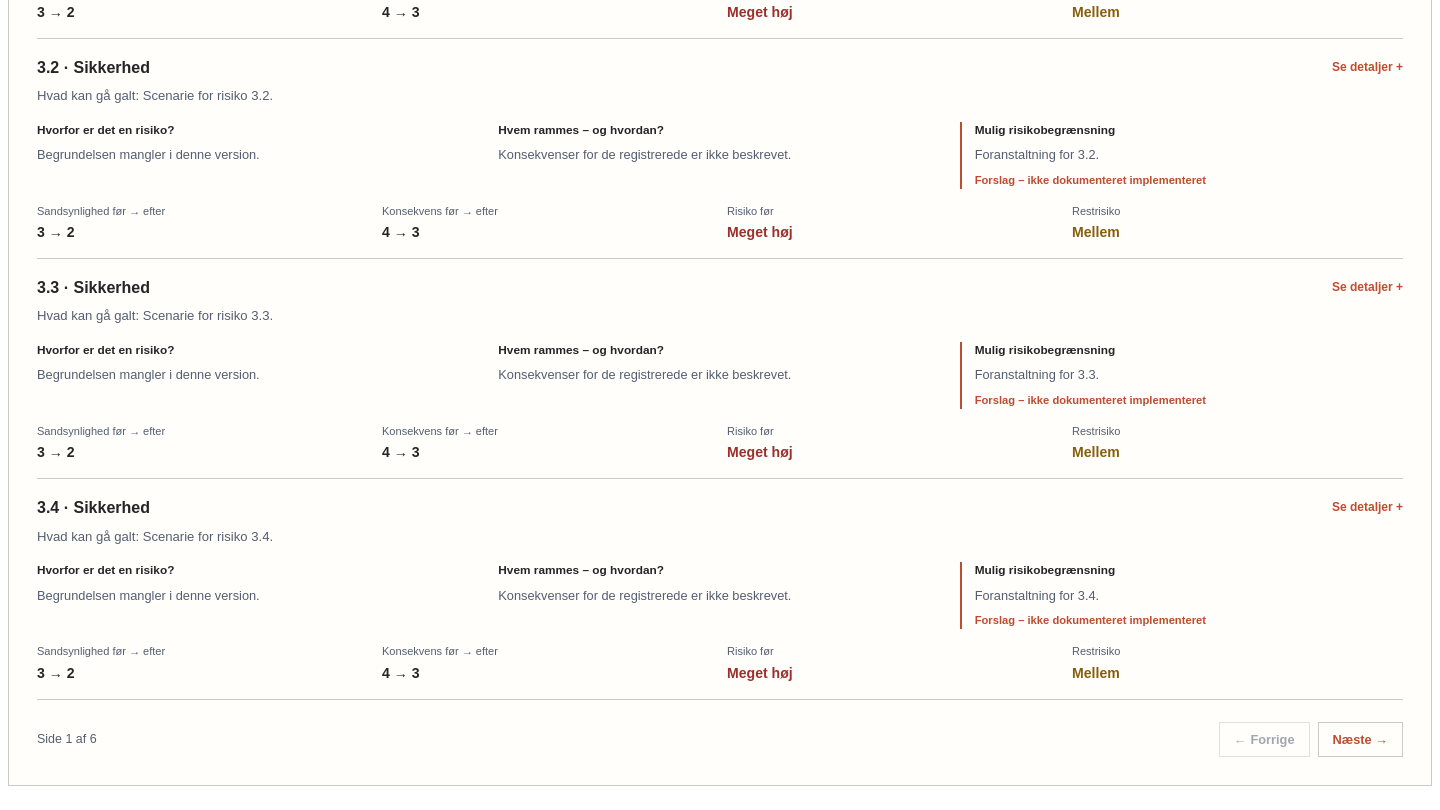
Scenario: 33 risici bliver til seks kompakte rækker ad gangen med alle risici tilgængelige
(page scrolled)
Expected: the button with aria-label "Forrige side med risici" is disabled, x1=1219 y1=722 x2=1310 y2=757
Click the button with aria-label "Næste side med risici" at (1360, 739), box x1=1318 y1=722 x2=1403 y2=757
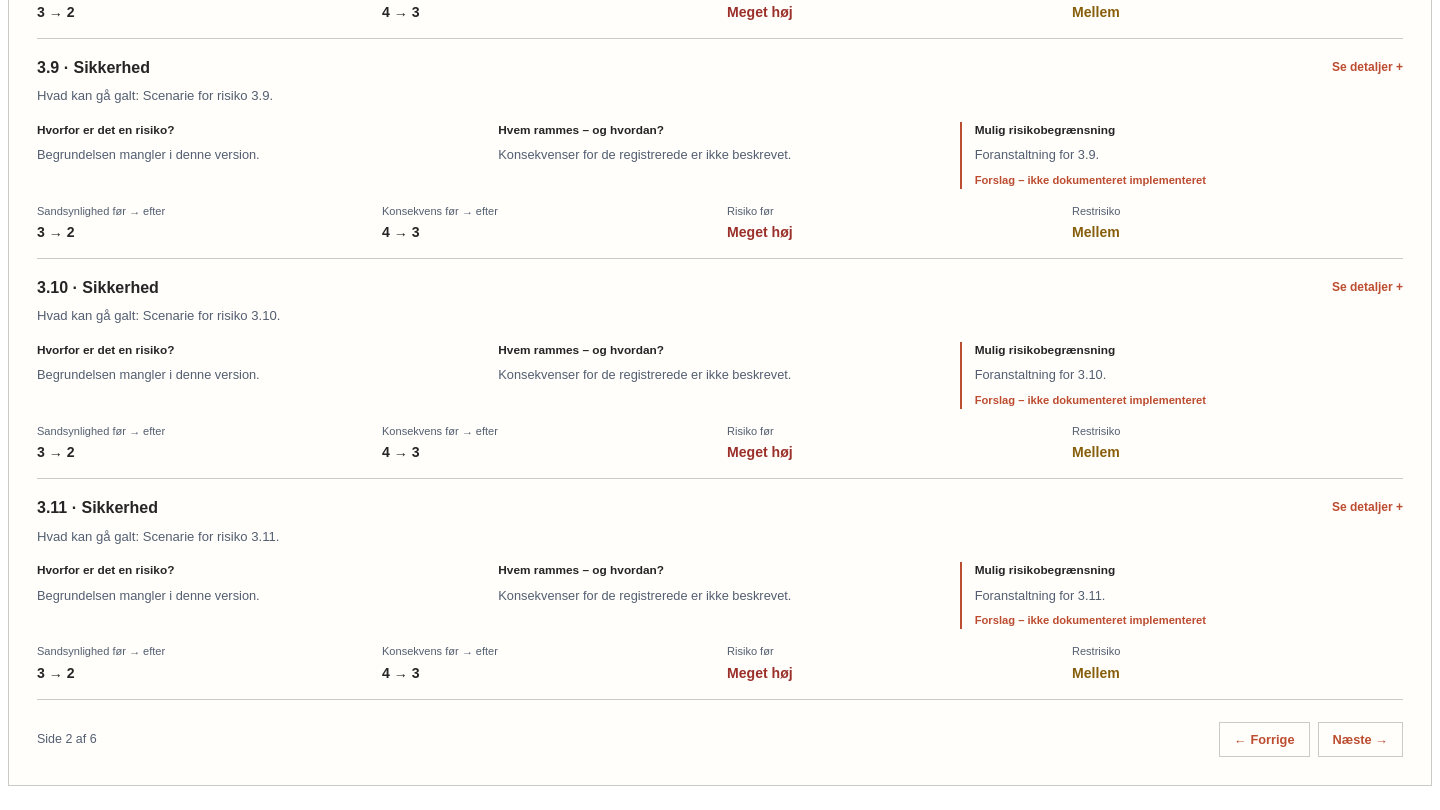
Click the button with aria-label "Næste side med risici" at (1360, 739), box x1=1318 y1=722 x2=1403 y2=757
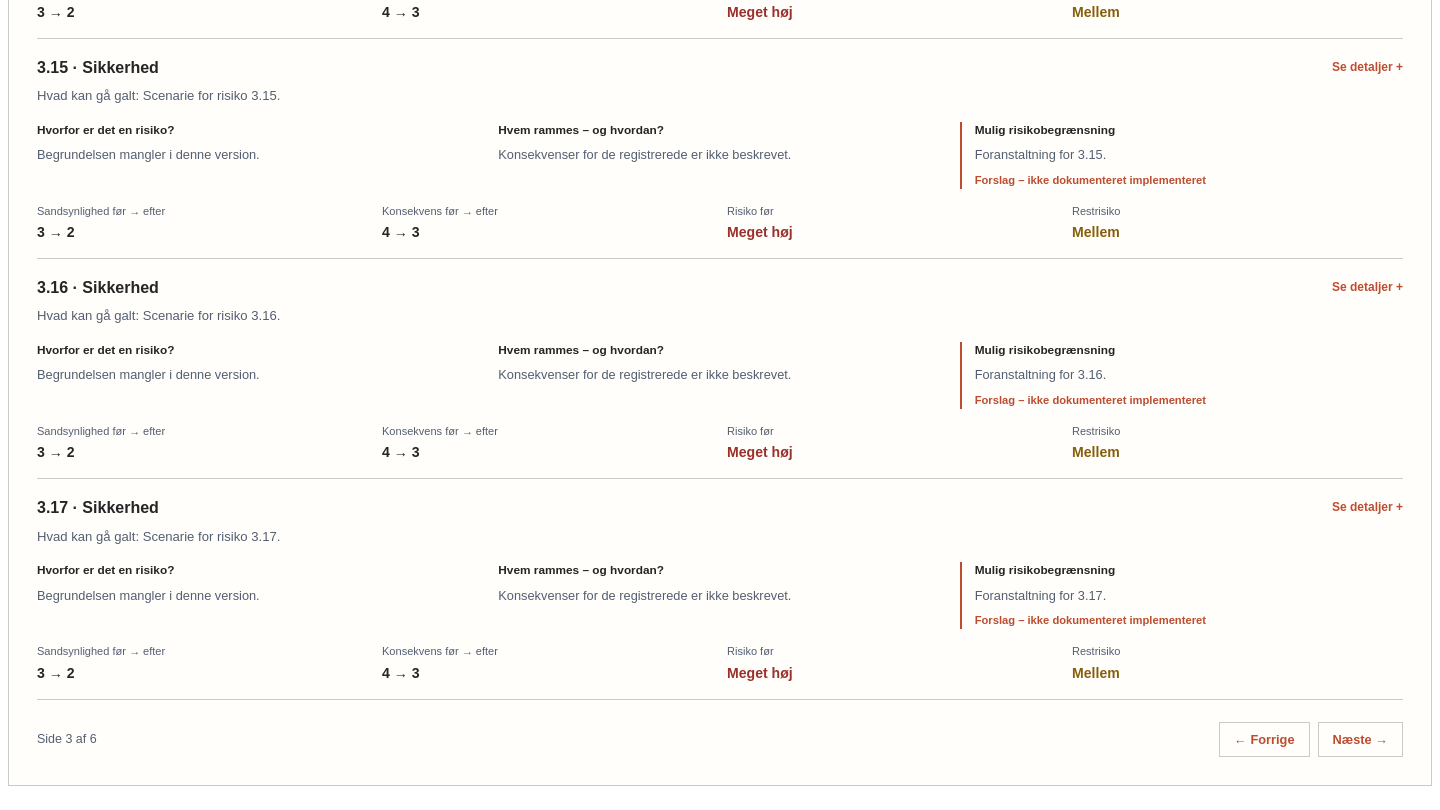
Click the button with aria-label "Næste side med risici" at (1360, 739), box x1=1318 y1=722 x2=1403 y2=757
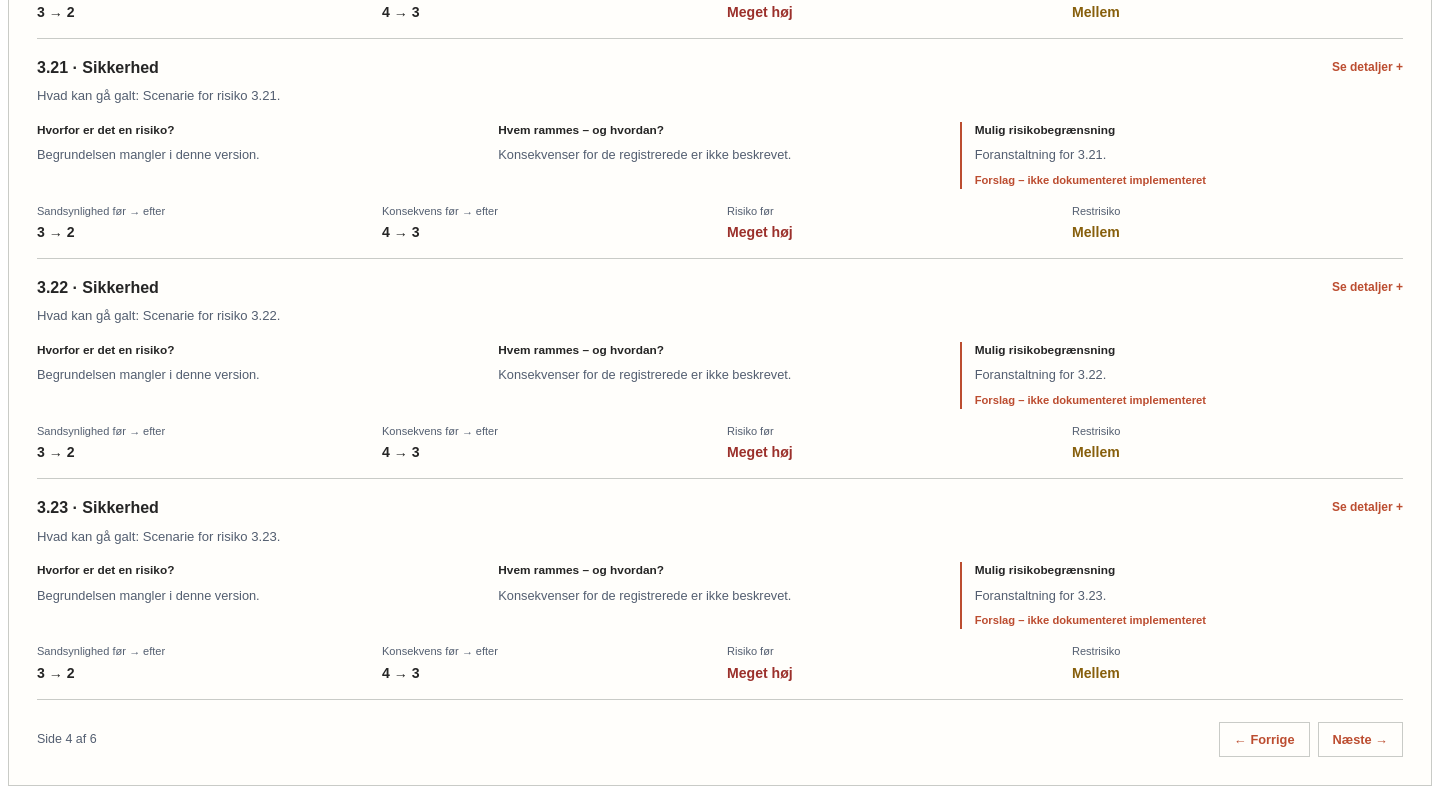
Click the button with aria-label "Næste side med risici" at (1360, 739), box x1=1318 y1=722 x2=1403 y2=757
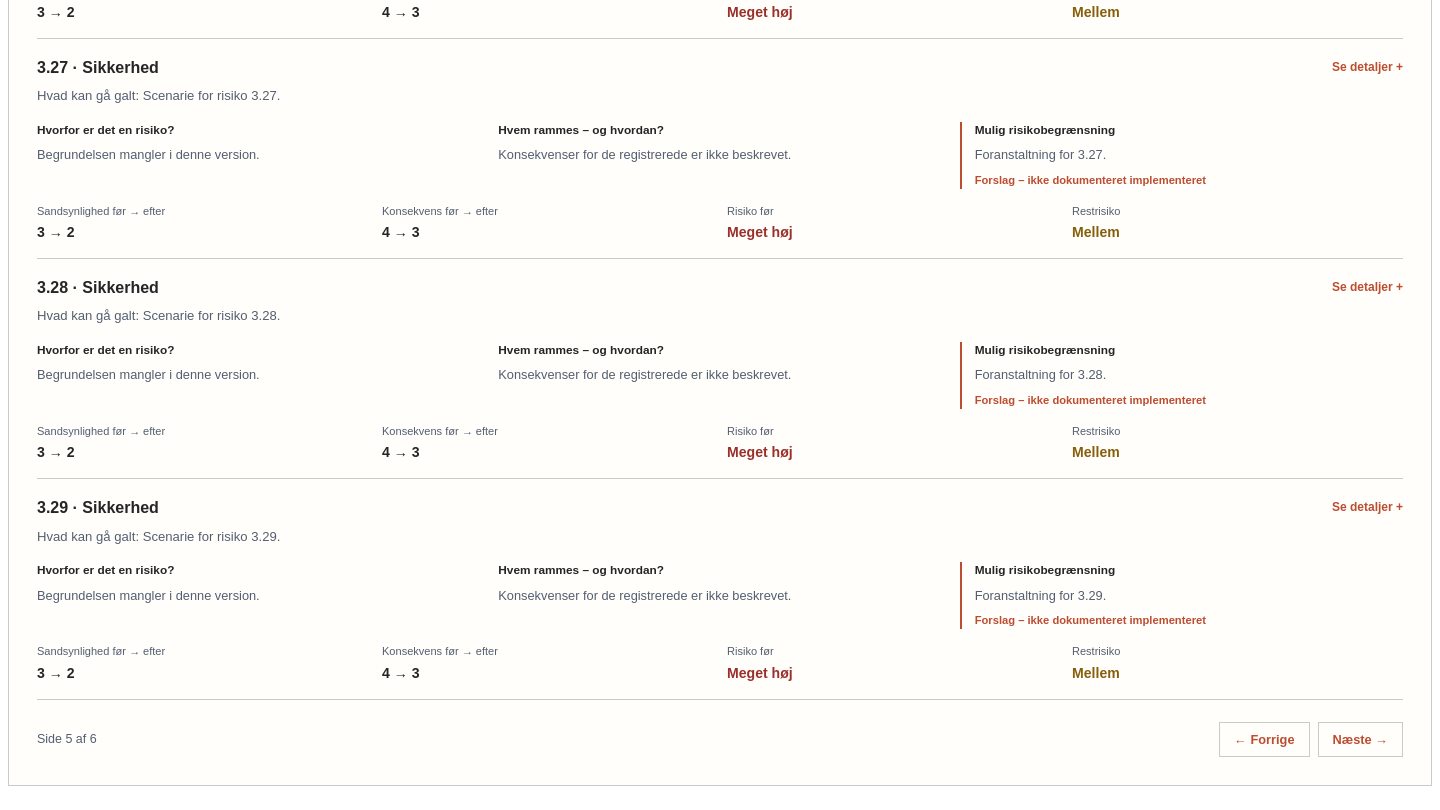
Click the button with aria-label "Næste side med risici" at (1360, 739), box x1=1318 y1=722 x2=1403 y2=757
(page scrolled)
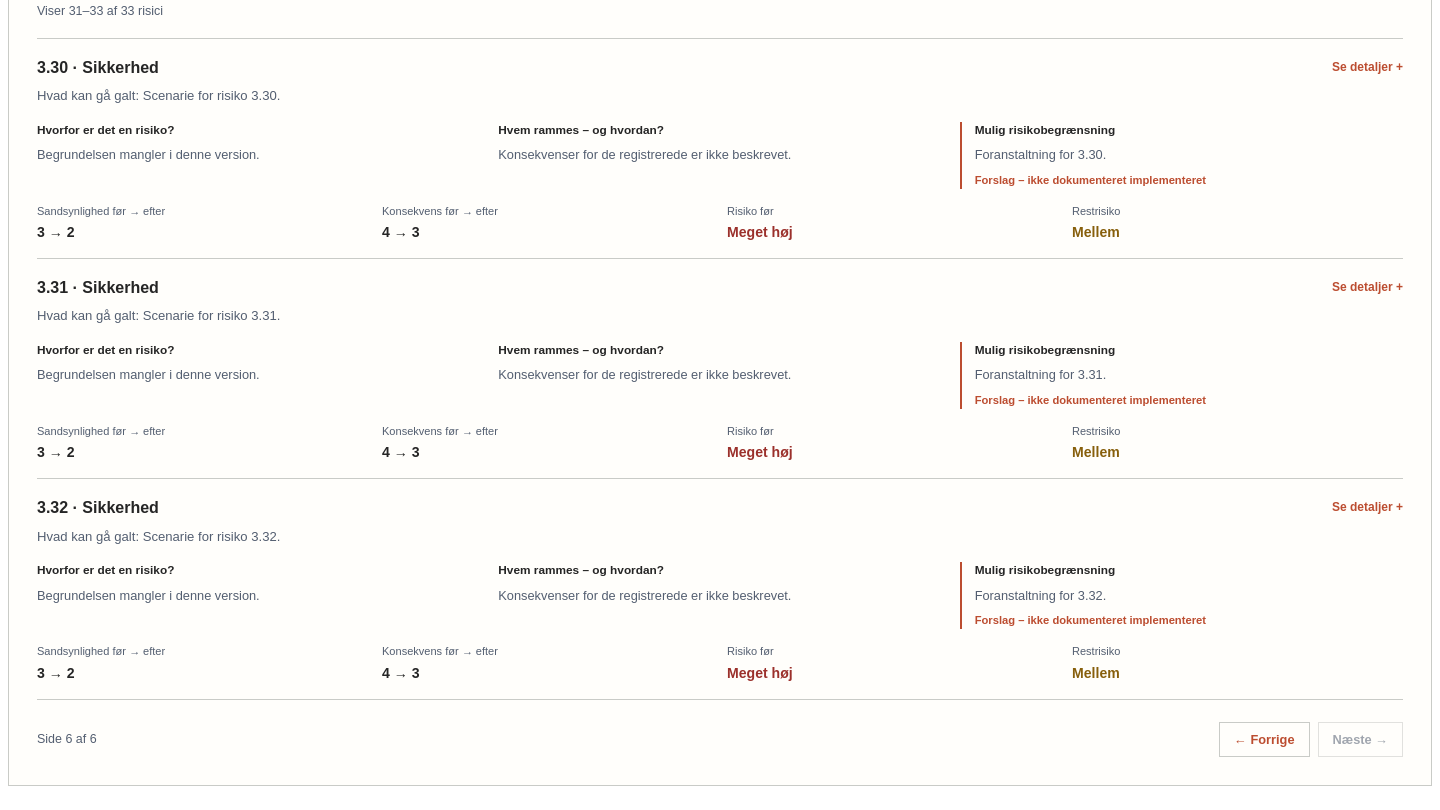
Now the button with aria-label "Næste side med risici" is disabled, box x1=1318 y1=722 x2=1403 y2=757
